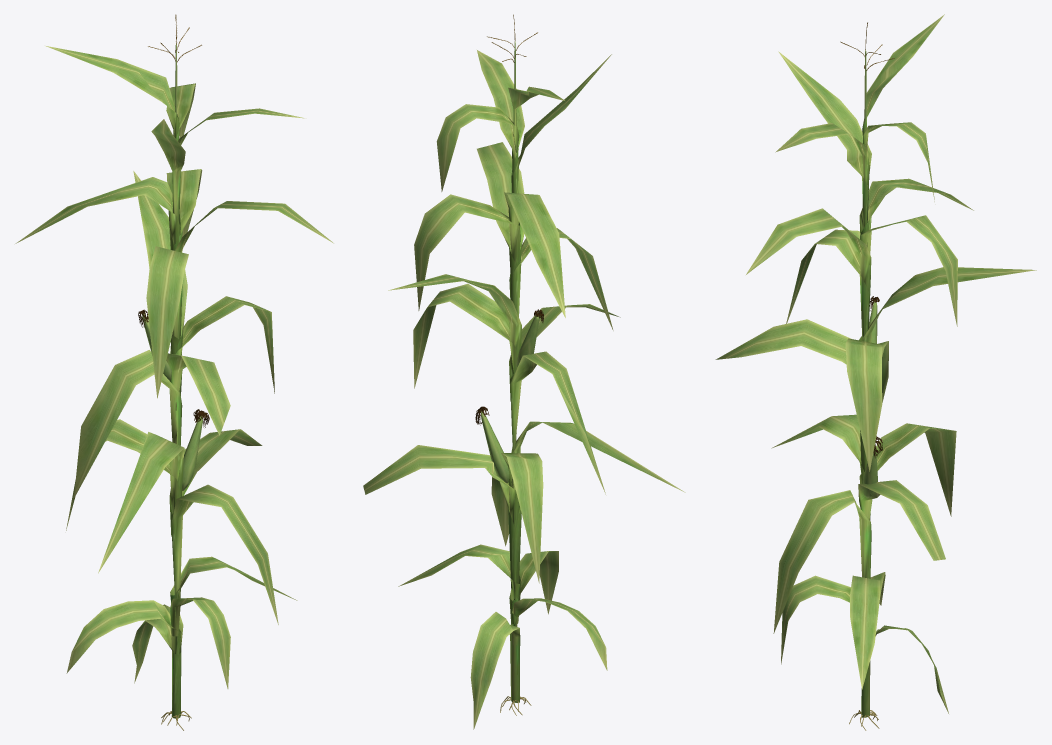
File: corn_b.glb
3 views of the same model, side by side, from view 1: azimuth 30°, elevation 25°; view 2: azimuth 150°, elevation 25°; view 3: azimuth 270°, elevation 25° (orthographic).
Parts seen in each view (by area): view 1: defaultMaterial (×21); view 2: defaultMaterial (×21); view 3: defaultMaterial (×18).
Part boxes in pixels (bbox=[...]): defaultMaterial (×21): bbox=[15, 46, 333, 718]; defaultMaterial (×21): bbox=[363, 50, 685, 729]; defaultMaterial (×18): bbox=[715, 14, 1036, 717].
Size of the model in its own units: 0.8428 by 2.3 by 0.9558.
3 materials, 3 textured.
